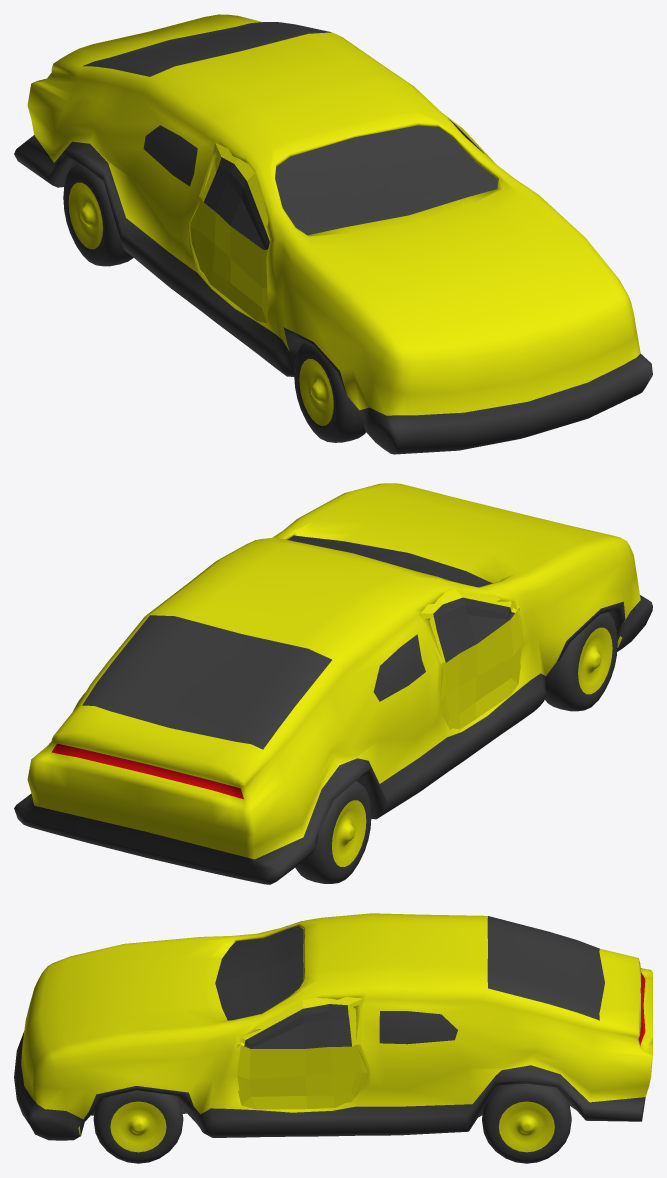
File: CARRO AMARELO LOW POLY.fbx
3 renders of one model, top to bottom at view 1: azimuth 30°, elevation 25°; view 2: azimuth 150°, elevation 25°; view 3: azimuth 270°, elevation 25°, orthographic. The views are drawn at different scales.
Visible parts, largest first — view 1: CARRO2, PORTA, RODA2, RODA3; view 2: CARRO2, PORTA, RODA2, RODA3; view 3: CARRO2, PORTA, RODA3, RODA1.
Part boxes in pixels (x1=…): CARRO2: x1=14, y1=14, x2=652, y2=454; PORTA: x1=188, y1=113, x2=496, y2=323; RODA2: x1=294, y1=343, x2=365, y2=442; RODA3: x1=63, y1=163, x2=133, y2=266; CARRO2: x1=14, y1=483, x2=652, y2=884; PORTA: x1=254, y1=540, x2=521, y2=729; RODA2: x1=544, y1=612, x2=617, y2=711; RODA3: x1=295, y1=781, x2=371, y2=883; CARRO2: x1=14, y1=913, x2=652, y2=1140; PORTA: x1=237, y1=921, x2=369, y2=1109; RODA3: x1=482, y1=1084, x2=571, y2=1163; RODA1: x1=93, y1=1090, x2=183, y2=1163.
Bounding box in the file's own units: 117 × 81.07 × 277.
